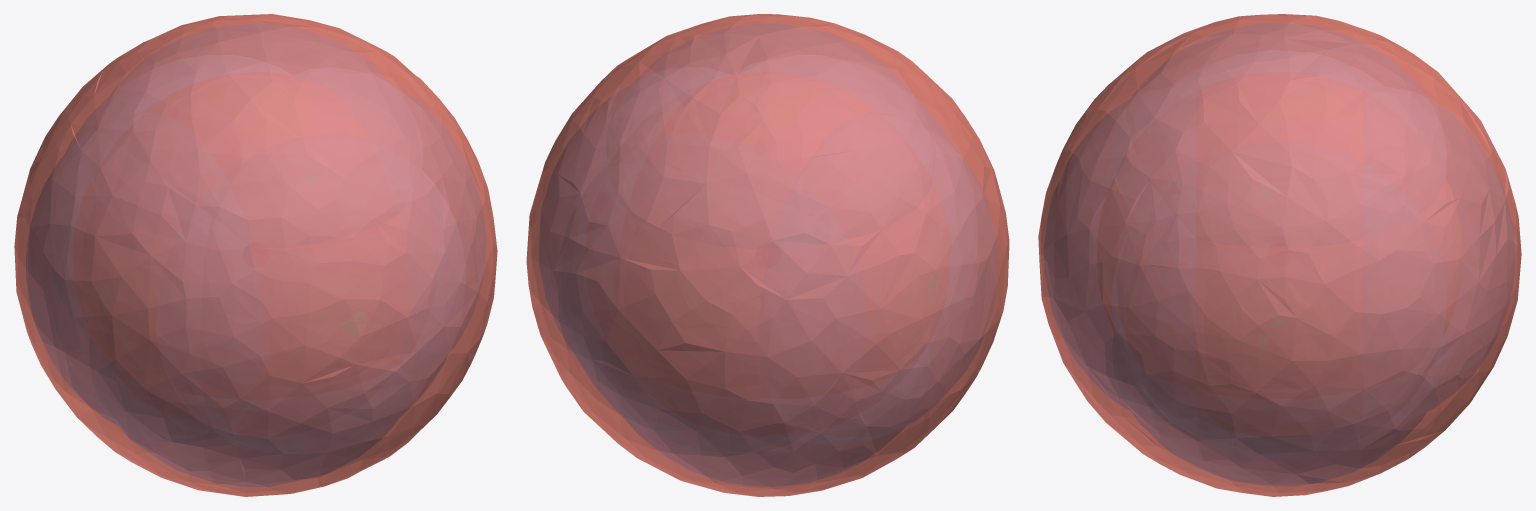
File: orbital.glb
The picture shows the model from 3 angles, left to right: view 1: azimuth 30°, elevation 25°; view 2: azimuth 150°, elevation 25°; view 3: azimuth 270°, elevation 25°; orthographic projection.
Parts seen in each view (by area): view 1: As_n4_s_ml0_node, As_n4_p_ml-1_node, As_n4_p_ml1_node, As_n4_p_ml0_node; view 2: As_n4_s_ml0_node, As_n4_p_ml-1_node, As_n4_p_ml1_node, As_n4_p_ml0_node; view 3: As_n4_s_ml0_node, As_n4_p_ml0_node, As_n4_p_ml-1_node, As_n4_p_ml1_node.
Part boxes in pixels (x1=…): As_n4_s_ml0_node: x1=14, y1=14, x2=497, y2=496; As_n4_p_ml-1_node: x1=94, y1=24, x2=418, y2=486; As_n4_p_ml1_node: x1=26, y1=84, x2=485, y2=440; As_n4_p_ml0_node: x1=66, y1=97, x2=465, y2=453; As_n4_s_ml0_node: x1=526, y1=14, x2=1009, y2=496; As_n4_p_ml-1_node: x1=606, y1=24, x2=929, y2=486; As_n4_p_ml1_node: x1=539, y1=86, x2=997, y2=439; As_n4_p_ml0_node: x1=558, y1=98, x2=959, y2=453; As_n4_s_ml0_node: x1=1038, y1=14, x2=1521, y2=496; As_n4_p_ml0_node: x1=1044, y1=98, x2=1514, y2=414; As_n4_p_ml-1_node: x1=1125, y1=23, x2=1433, y2=485; As_n4_p_ml1_node: x1=1126, y1=338, x2=1432, y2=458.
Bounding box in the file's own units: 2.06 × 2.07 × 2.06.
